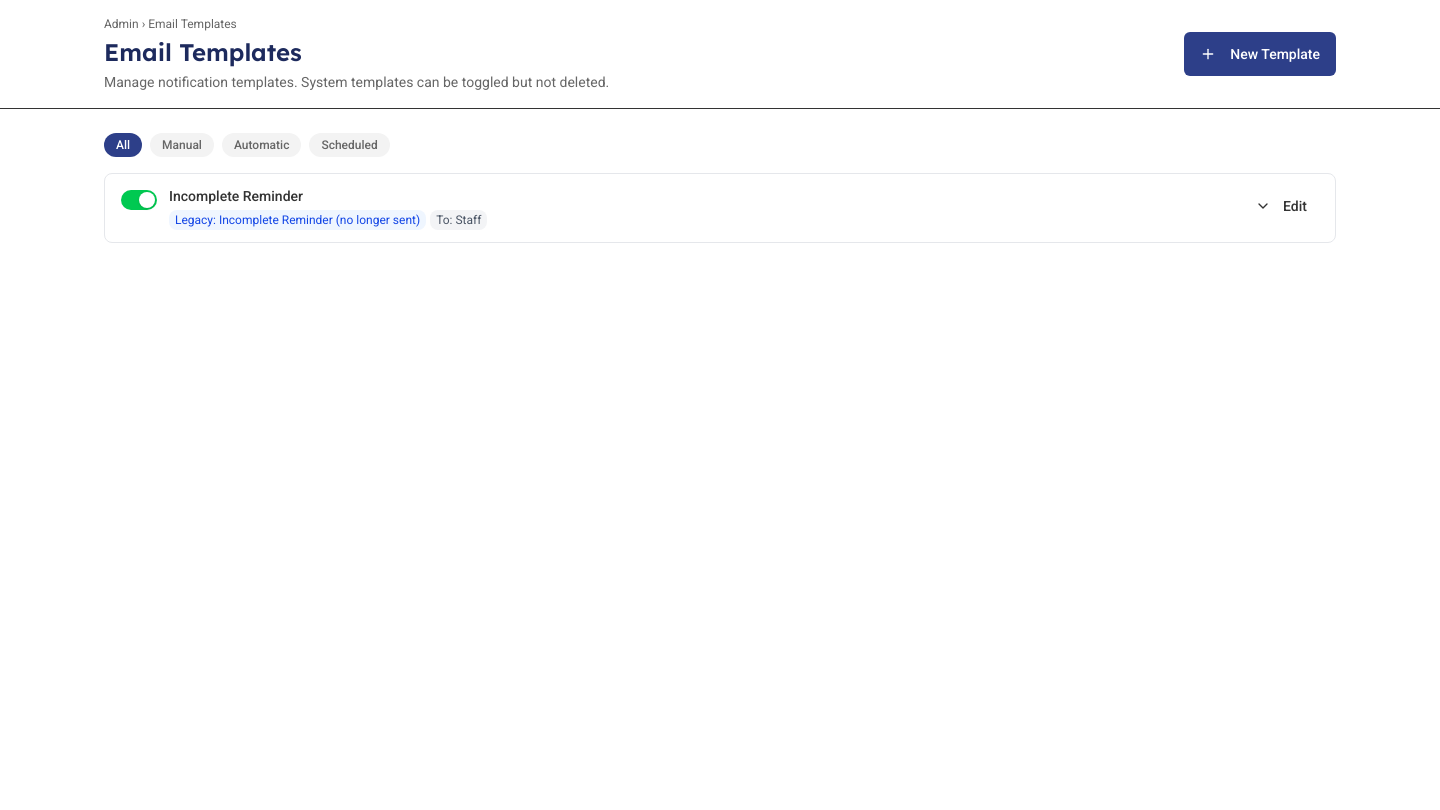
it: Recipient control — fixed-recipient triggers › disables the Recipient selector for scheduled.reminderIncomplete
Click the button "Edit": (1281, 206) [1243,186,1319,226]
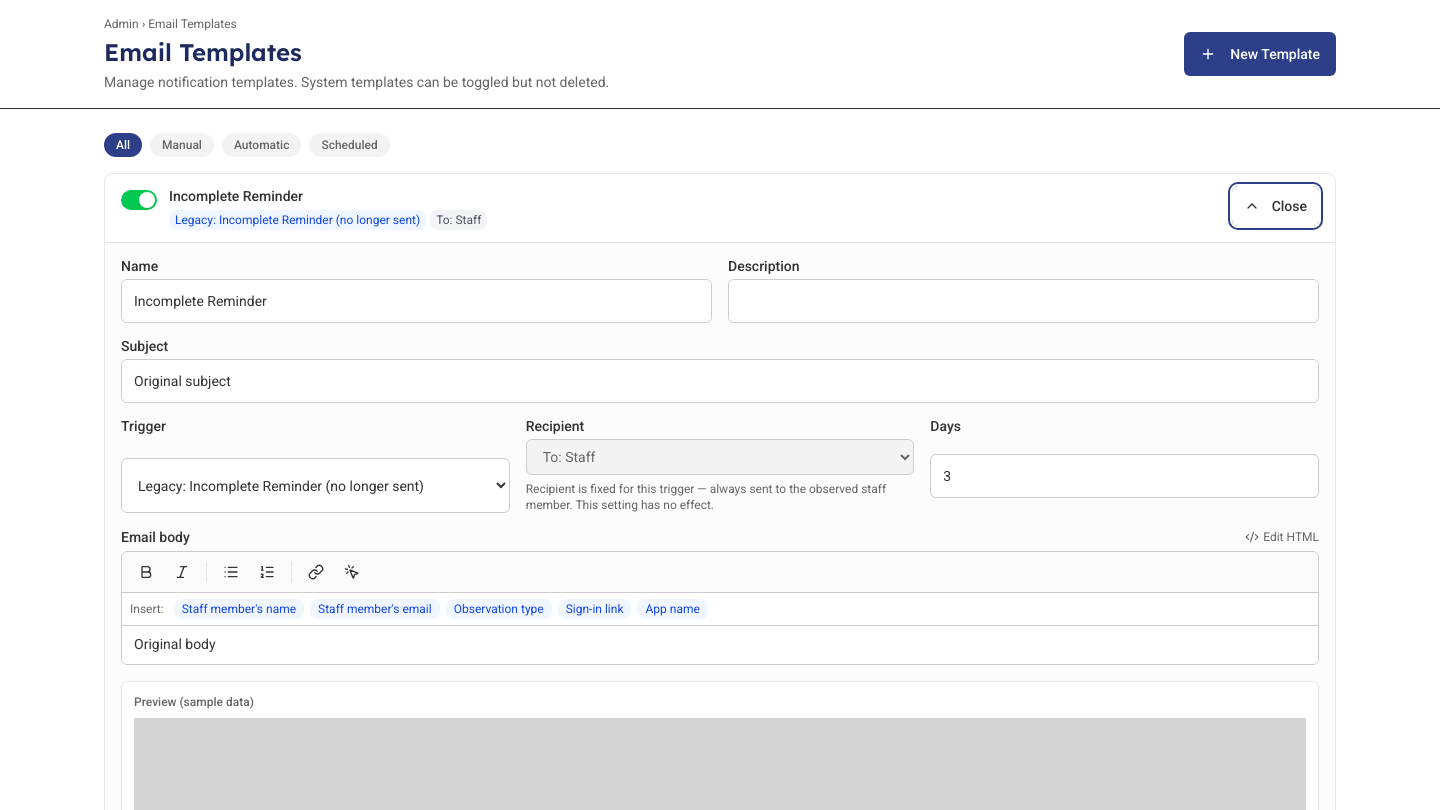
Check: the dropdown labelled "Recipient" is disabled, box [526,439,914,475]
Check: the text "the observed staff member" is shown, box [526,482,886,512]
